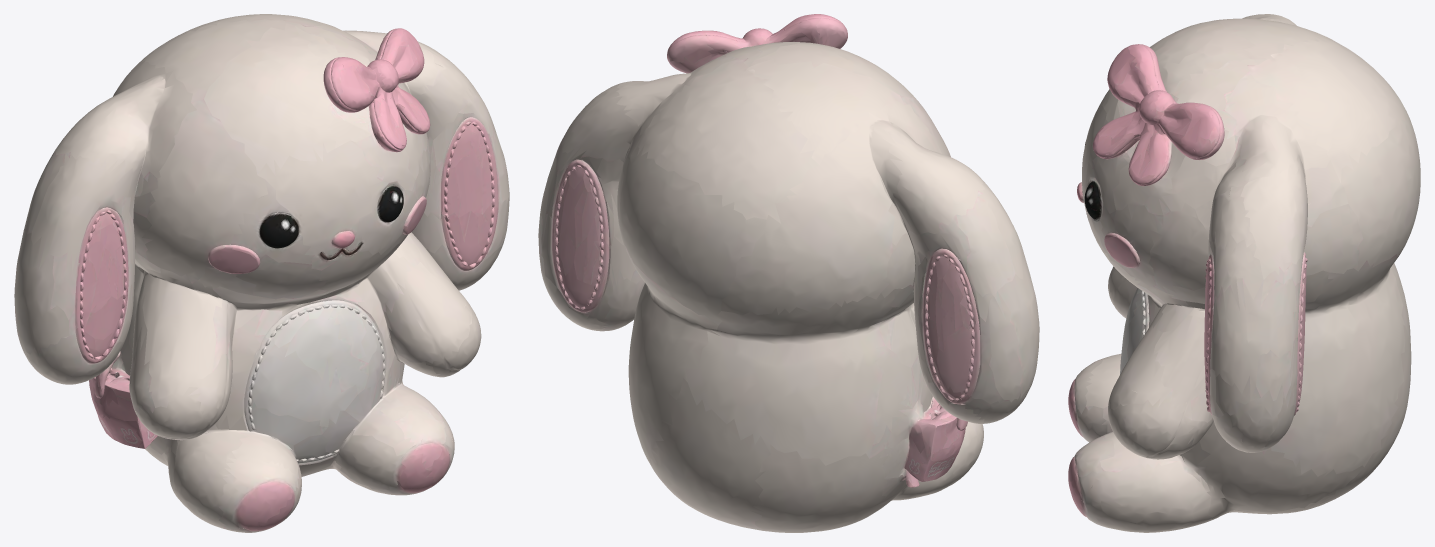
The model's file is bunny.gen.glb.
3 renders of one model, left to right at view 1: azimuth 30°, elevation 25°; view 2: azimuth 150°, elevation 25°; view 3: azimuth 270°, elevation 25°, orthographic. The views are drawn at different scales.
Visible parts, largest first — view 1: LOD0; view 2: LOD0; view 3: LOD0.
Part boxes in pixels (x1,y1,x2,y2): LOD0: (14,14,509,532); LOD0: (538,14,1039,532); LOD0: (1068,14,1420,532).
Size of what is drawn, in the model's own units: 0.2319 by 0.2009 by 0.1428.
Materials: 1 (1 with a texture image).
